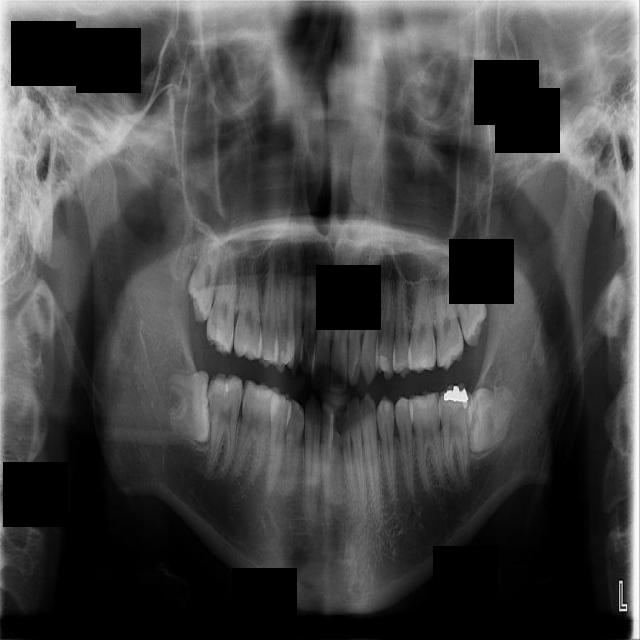3M ESPE Implant: (182, 226, 224, 325)
52: (406, 386, 445, 429), (207, 371, 244, 414), (439, 383, 472, 426), (373, 335, 397, 378), (377, 396, 394, 438)
73: (617, 587, 620, 595)
BioHorizons Implant: (434, 259, 465, 372)
BioLife Implant: (448, 240, 492, 349)
Biomet 3i Implant: (466, 387, 513, 456)
Blue Sky Bio Implant: (437, 383, 476, 490)
Caries: (203, 242, 241, 356)
Implant: (202, 373, 244, 479)
Keystone Dental Implant: (166, 371, 211, 441)
